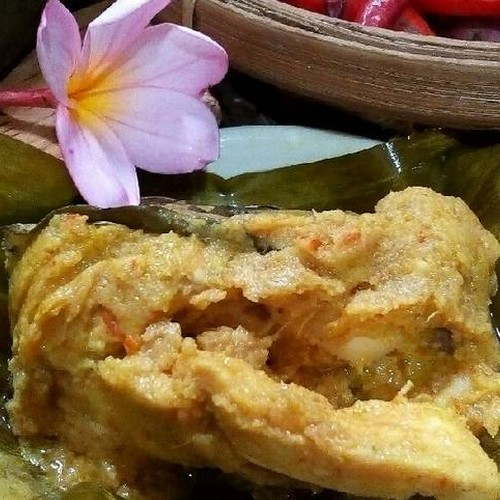tum ayam: (7, 198, 499, 500)
